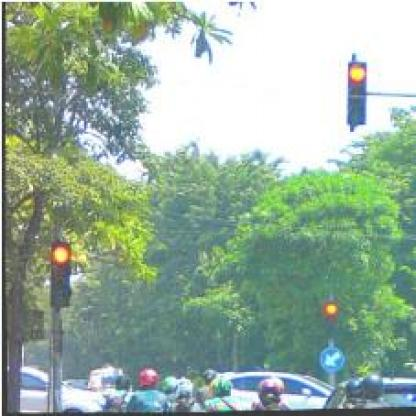red: (48, 243, 70, 307), (346, 62, 366, 126)
